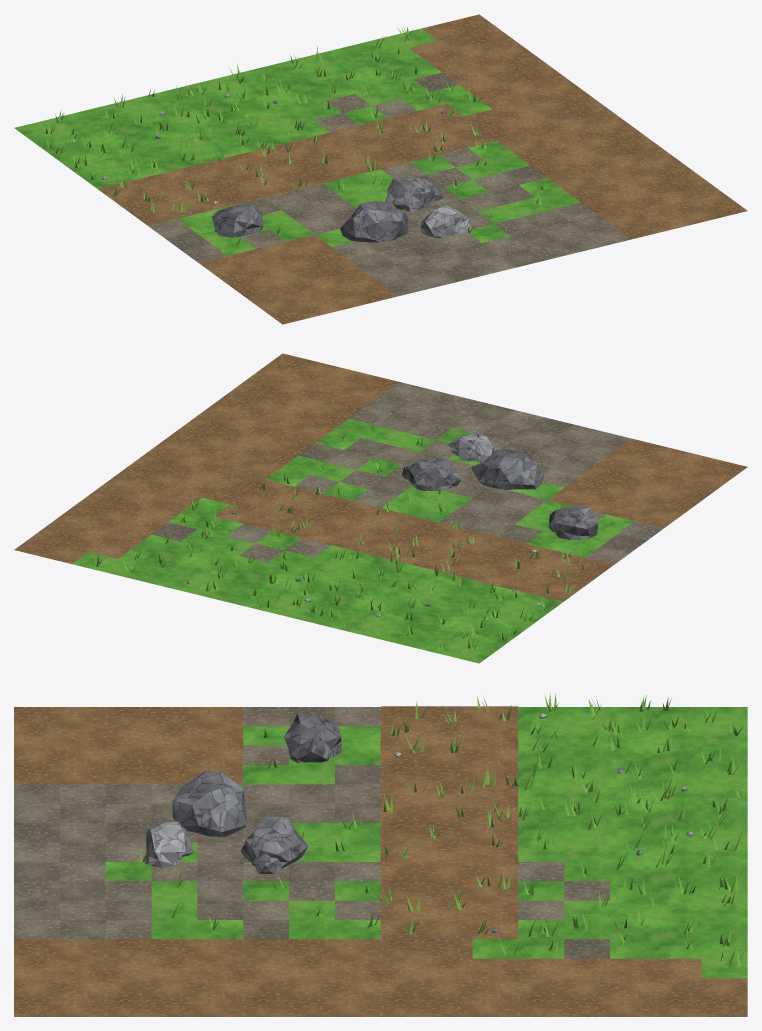
File: chunk_5_16.glb
3 renders of one model, top to bottom at view 1: azimuth 30°, elevation 25°; view 2: azimuth 150°, elevation 25°; view 3: azimuth 270°, elevation 25°, orthographic. The views are drawn at different scales.
Visible parts, largest first — view 1: chunk_5_16; view 2: chunk_5_16; view 3: chunk_5_16.
Boxes of the visible parts, x1,y1,x2,y2 form: chunk_5_16: (14, 14, 747, 324); chunk_5_16: (14, 353, 747, 663); chunk_5_16: (14, 692, 747, 1016).
Size of the model in its own units: 16.09 by 1.44 by 16.01.
Materials: 8 (7 with a texture image).
